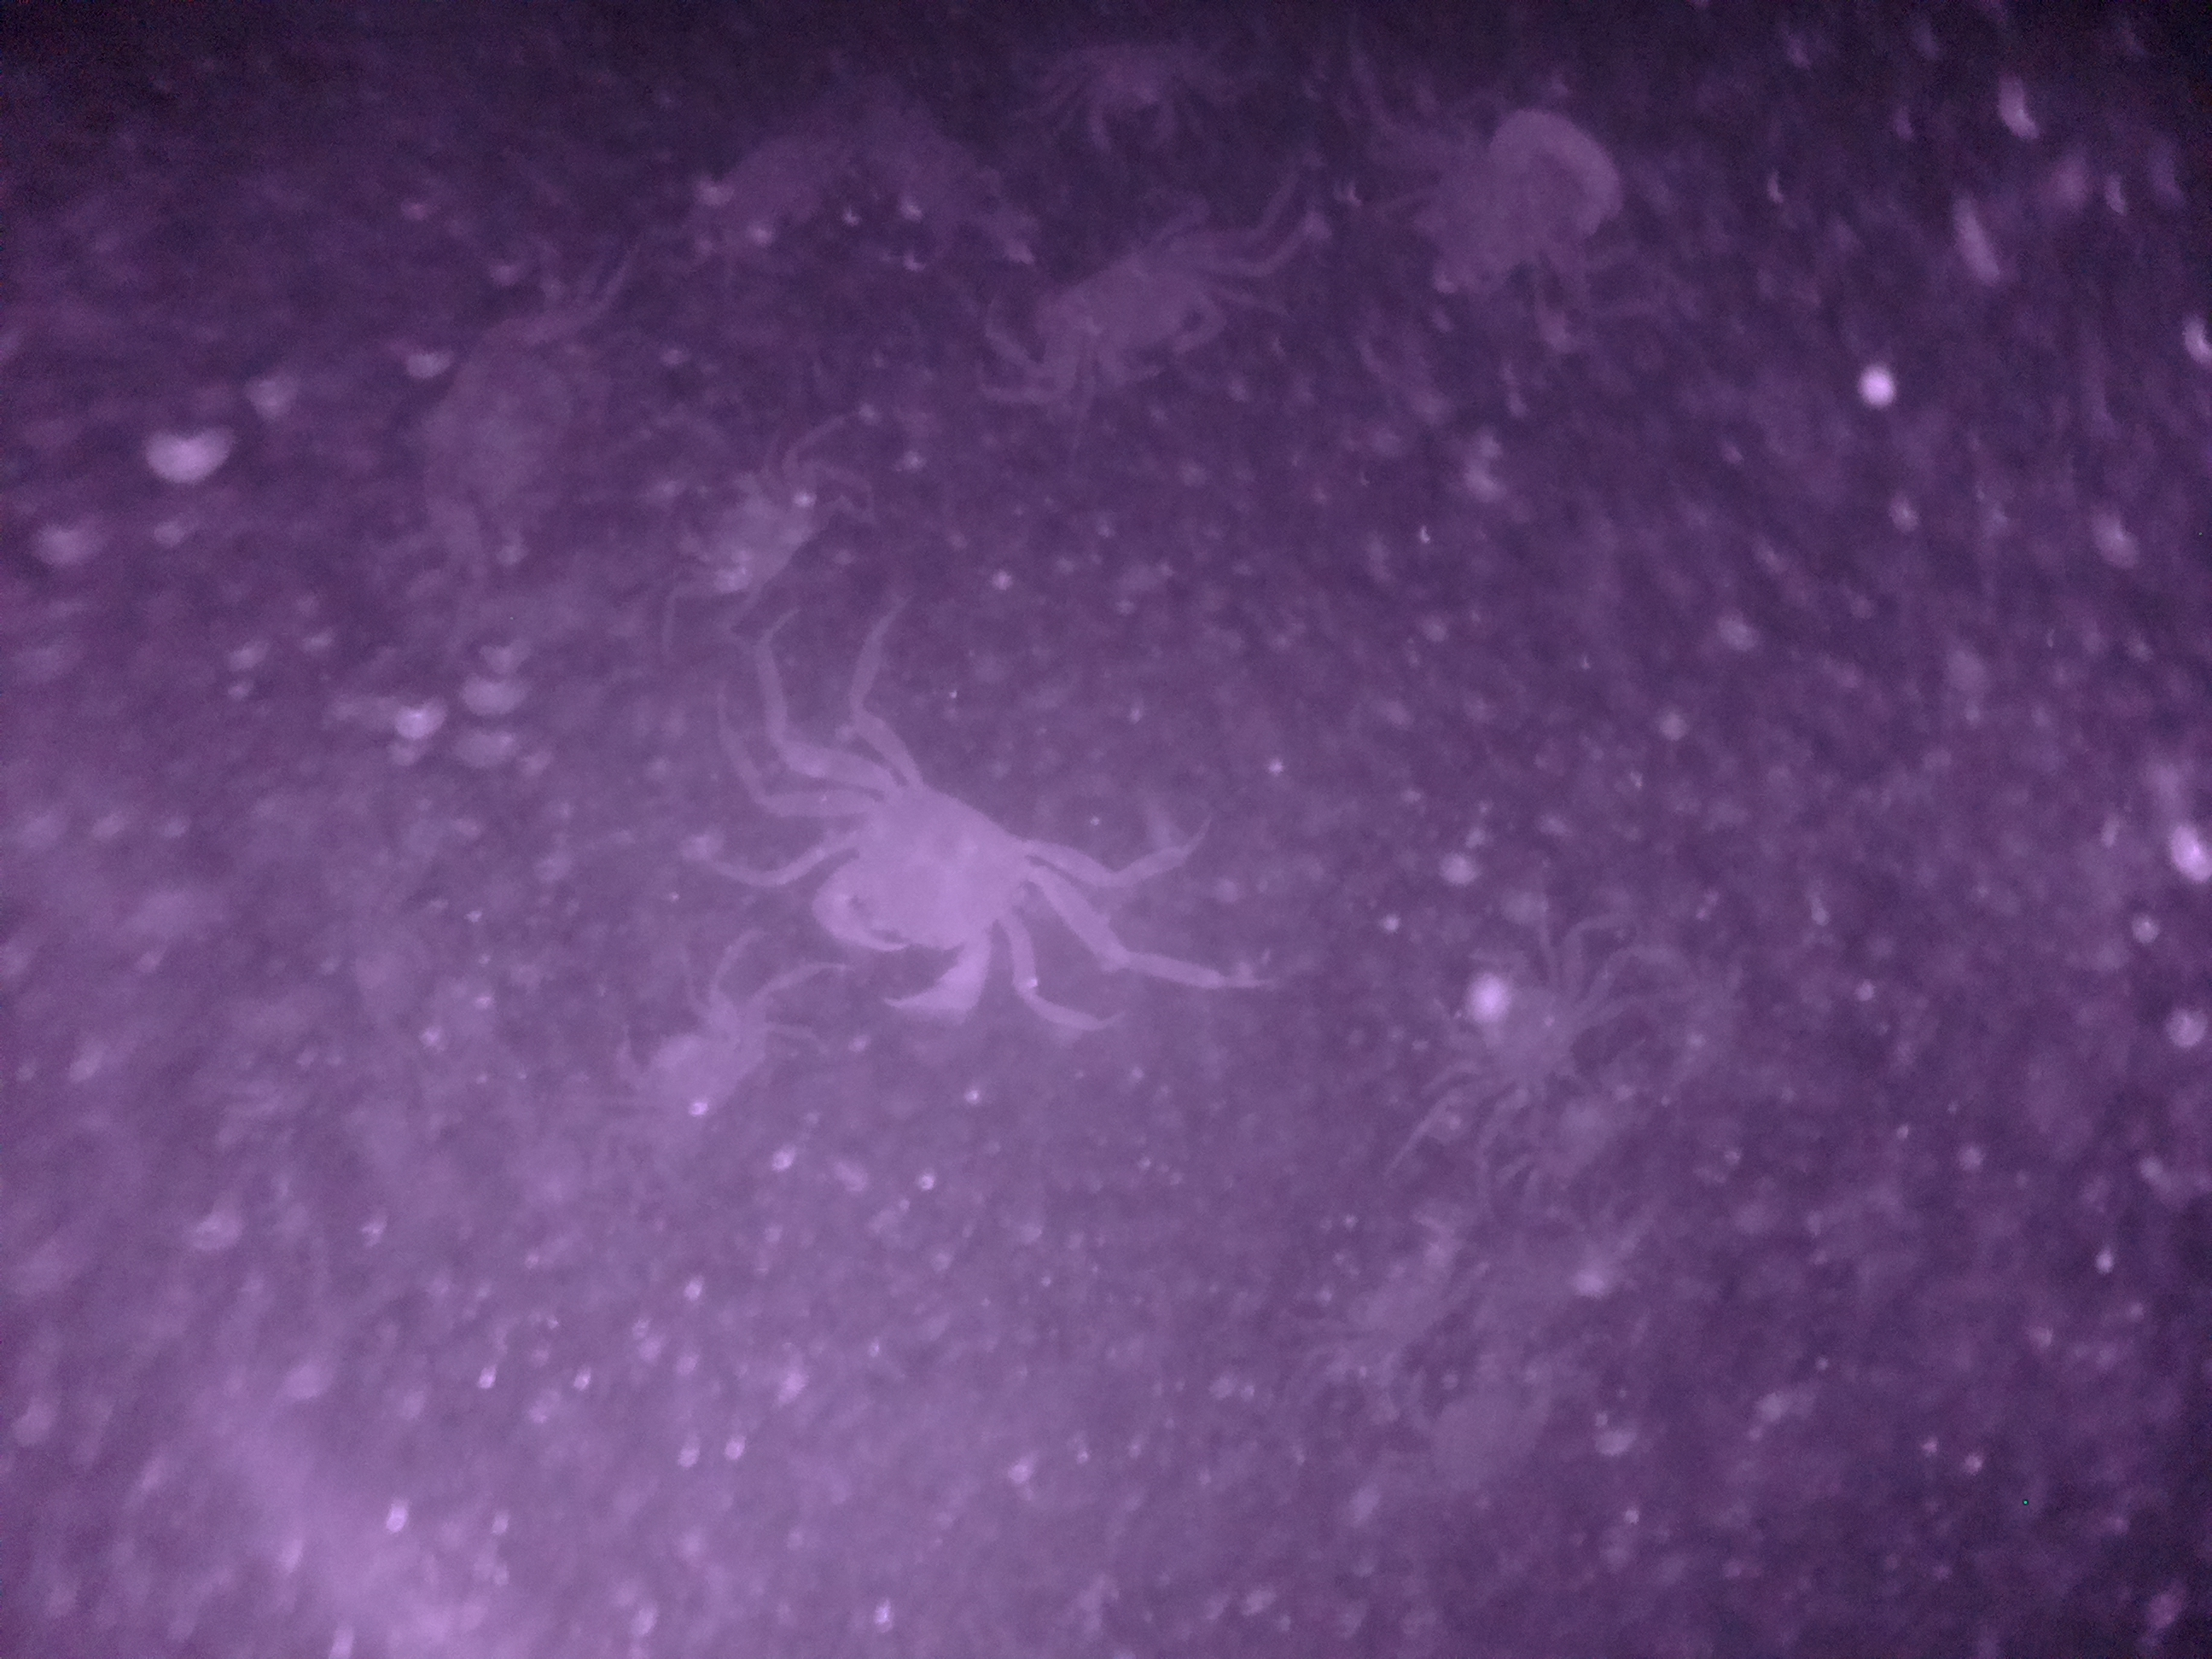Crab: (786, 739, 1047, 1040), (1003, 216, 1284, 406)
